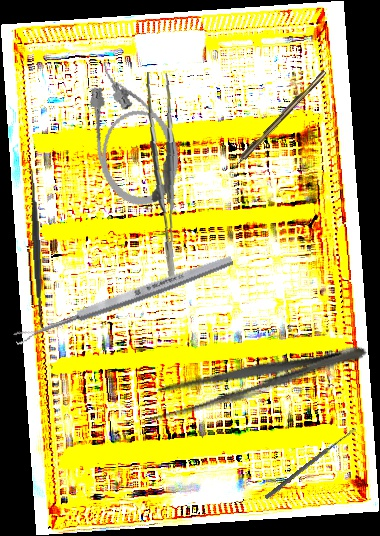Cannula: (77, 50, 188, 213)
Dressing Forceps: (140, 332, 371, 428)
Hook Surgical: (225, 69, 328, 176)
Spatula Surgical: (23, 167, 51, 333)
Surgical Spoon: (12, 252, 235, 347), (264, 426, 357, 501)
Tissue Forceps: (132, 71, 190, 284)
